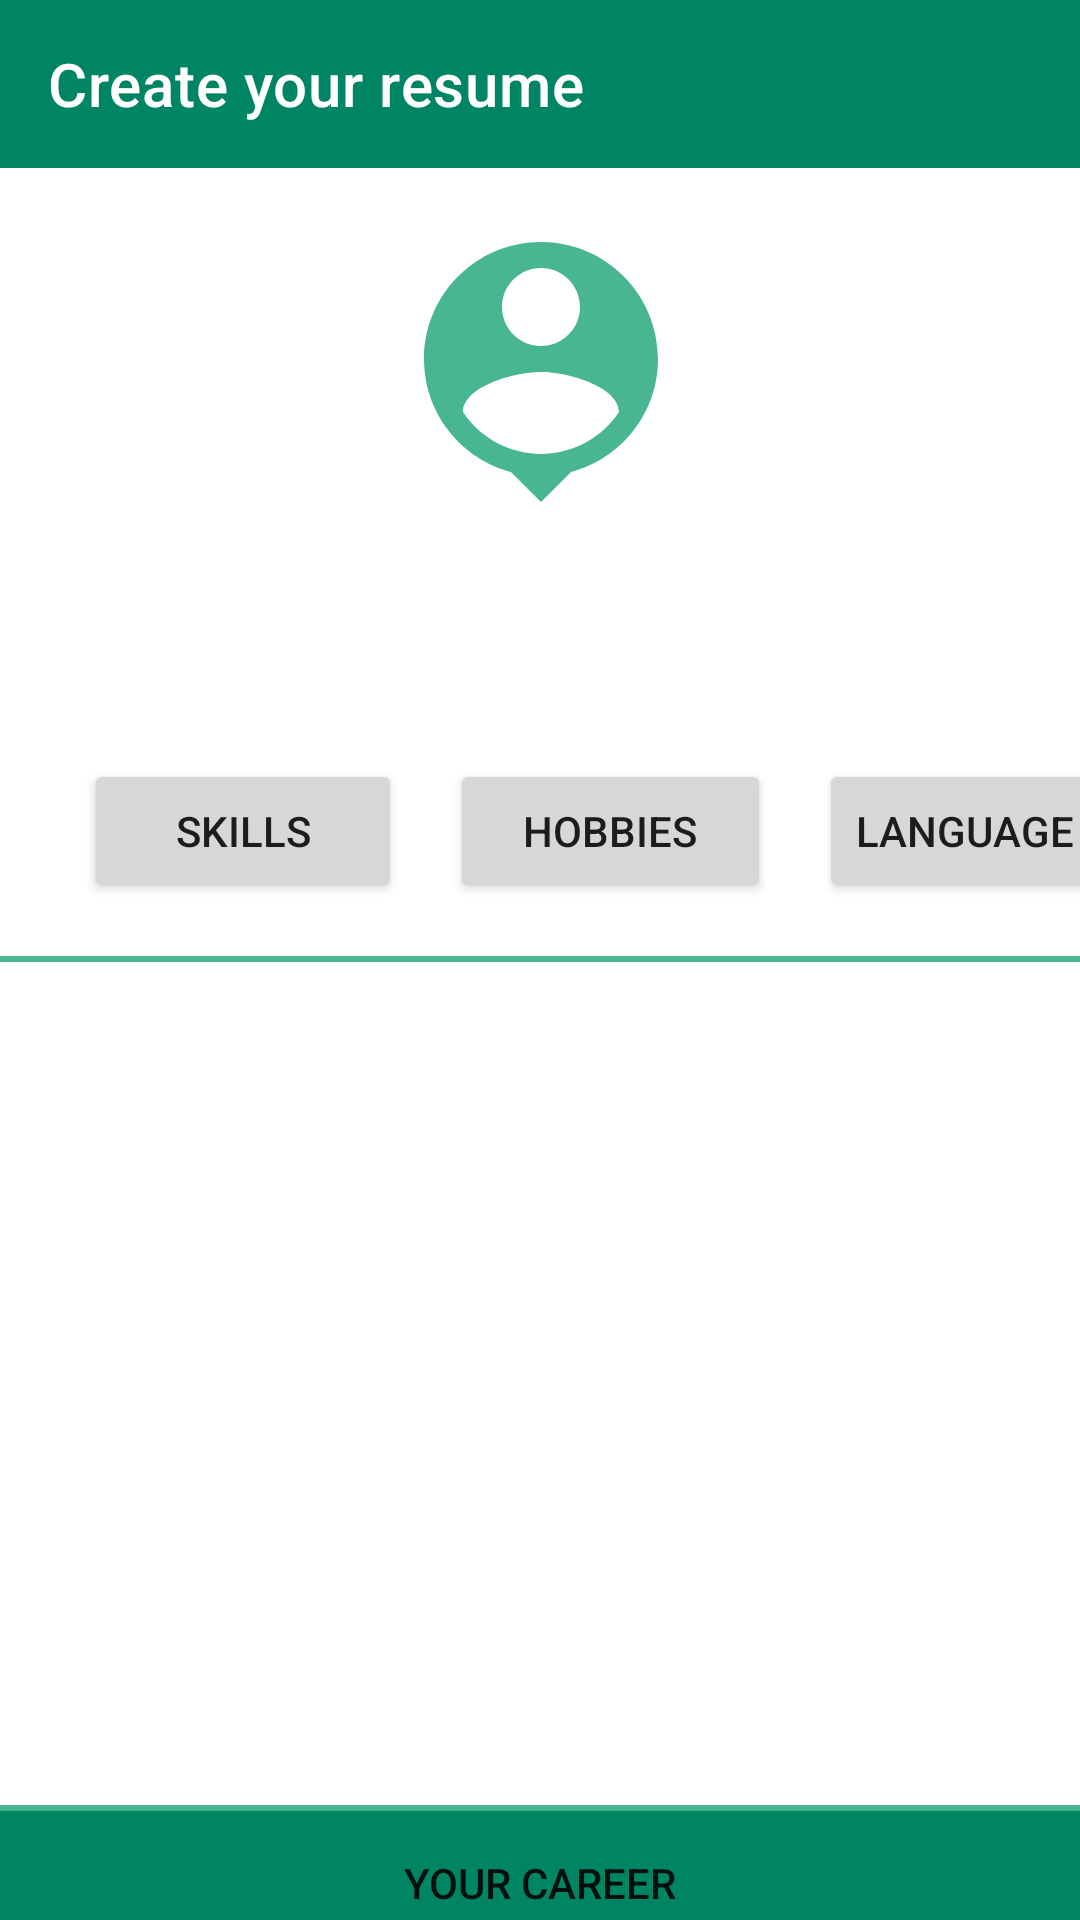

Point at icon controls on the screen. Image size 1080 × 1920, points as [x,y].
person pin: [541,372]
